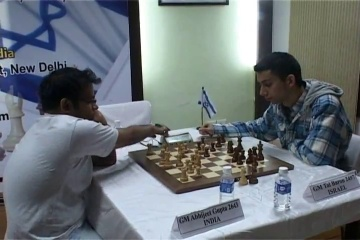person: (7, 68, 167, 239), (203, 49, 360, 170)
